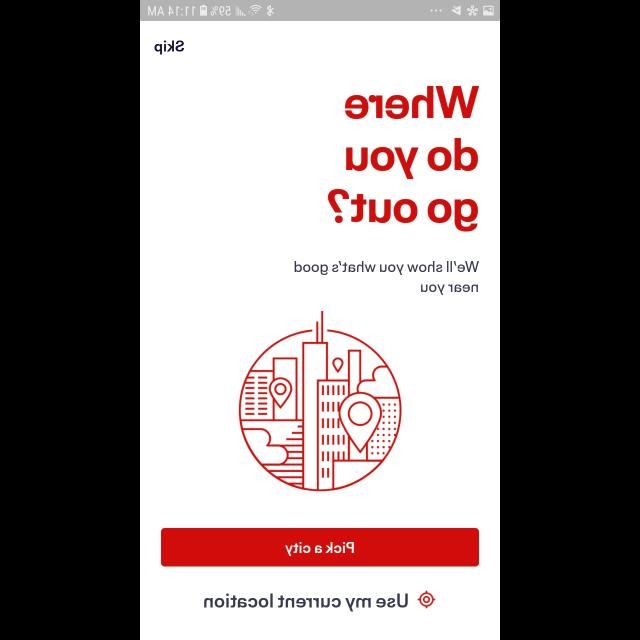icon: (417, 591, 435, 609)
image: (238, 312, 402, 492)
text: (328, 86, 478, 232), (294, 260, 478, 296), (204, 592, 408, 612), (154, 40, 184, 56)
textbutton: (161, 528, 479, 568)
uppertaskbar: (140, 1, 500, 22)
